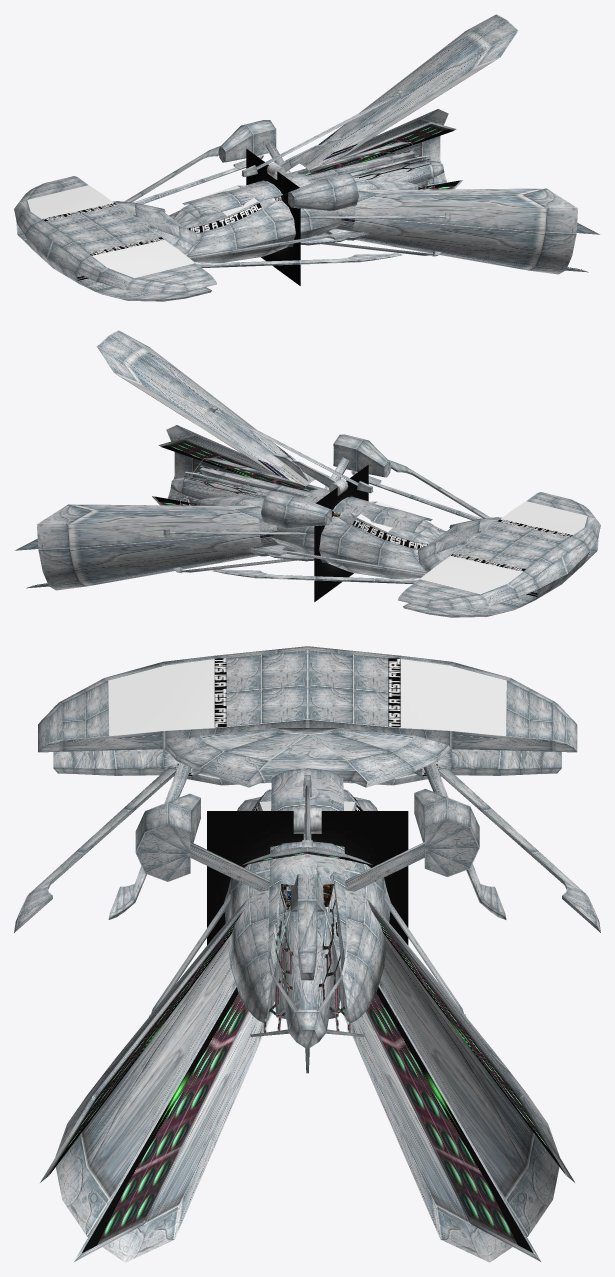
Rendered from OriginalJE.obj.
The picture shows the model from 3 angles, top to bottom: view 1: azimuth 30°, elevation 25°; view 2: azimuth 150°, elevation 25°; view 3: azimuth 270°, elevation 25°; orthographic projection. The views are drawn at different scales.
Visible parts, largest first — view 1: FINEROTA180, WINGS_EXP030, FINEROTA160, LINE020, FANCENTE01+++00, DECAL010.005, FINEROTA170, ENG_BRACE_010, LFGREEN010.002, ENGINE_BRACE020, DECAL020.002, FINFX020 (+7 smaller); view 2: FINEROTA170, WINGS_EXP030, FINEROTA160, LINE020, FANCENTE01+++00, DECAL020.002, FINEROTA180, ENGINE_BRACE020, ENG_BRACE_010, DECAL010.005, FINFFX0, LFGREEN010.002 (+8 smaller); view 3: WINGS_EXP030, FINEROTA170, FINEROTA180, LINE020, FANCENTE01+++00, FINFX020, FINFFX0, LFRED010.002, DECAL020.002, DECAL010.005, ENG_BRACE_010, ENGINE_BRACE020 (+6 smaller).
Part boxes in pixels (x1,y1,x2,y2): FINEROTA180: [300, 188, 600, 274]; WINGS_EXP030: [14, 176, 216, 301]; FINEROTA160: [279, 14, 517, 171]; LINE020: [169, 151, 418, 262]; FANCENTE01+++00: [182, 142, 444, 246]; DECAL010.005: [92, 239, 195, 278]; FINEROTA170: [304, 109, 462, 189]; ENG_BRACE_010: [288, 173, 359, 210]; LFGREEN010.002: [246, 149, 300, 285]; ENGINE_BRACE020: [218, 120, 290, 173]; DECAL020.002: [27, 185, 113, 218]; FINFX020: [306, 124, 460, 189]; FINEROTA170: [15, 504, 314, 590]; WINGS_EXP030: [398, 492, 600, 617]; FINEROTA160: [97, 330, 336, 487]; LINE020: [196, 467, 445, 578]; FANCENTE01+++00: [170, 458, 432, 562]; DECAL020.002: [419, 555, 522, 594]; FINEROTA180: [152, 425, 310, 505]; ENGINE_BRACE020: [261, 491, 331, 527]; ENG_BRACE_010: [324, 434, 391, 489]; DECAL010.005: [501, 501, 587, 534]; FINFFX0: [154, 440, 308, 505]; LFGREEN010.002: [314, 481, 368, 601]; WINGS_EXP030: [38, 646, 577, 787]; FINEROTA170: [340, 893, 574, 1262]; FINEROTA180: [40, 894, 274, 1262]; LINE020: [224, 789, 390, 1022]; FANCENTE01+++00: [250, 768, 364, 1073]; FINFX020: [366, 910, 565, 1252]; FINFFX0: [49, 910, 248, 1253]; LFRED010.002: [207, 811, 408, 945]; DECAL020.002: [399, 659, 506, 736]; DECAL010.005: [108, 659, 216, 736]; ENG_BRACE_010: [135, 793, 269, 891]; ENGINE_BRACE020: [345, 789, 479, 891].
Bounding box in the file's own units: 123 × 53.72 × 69.95.
36 materials, 36 textured.
